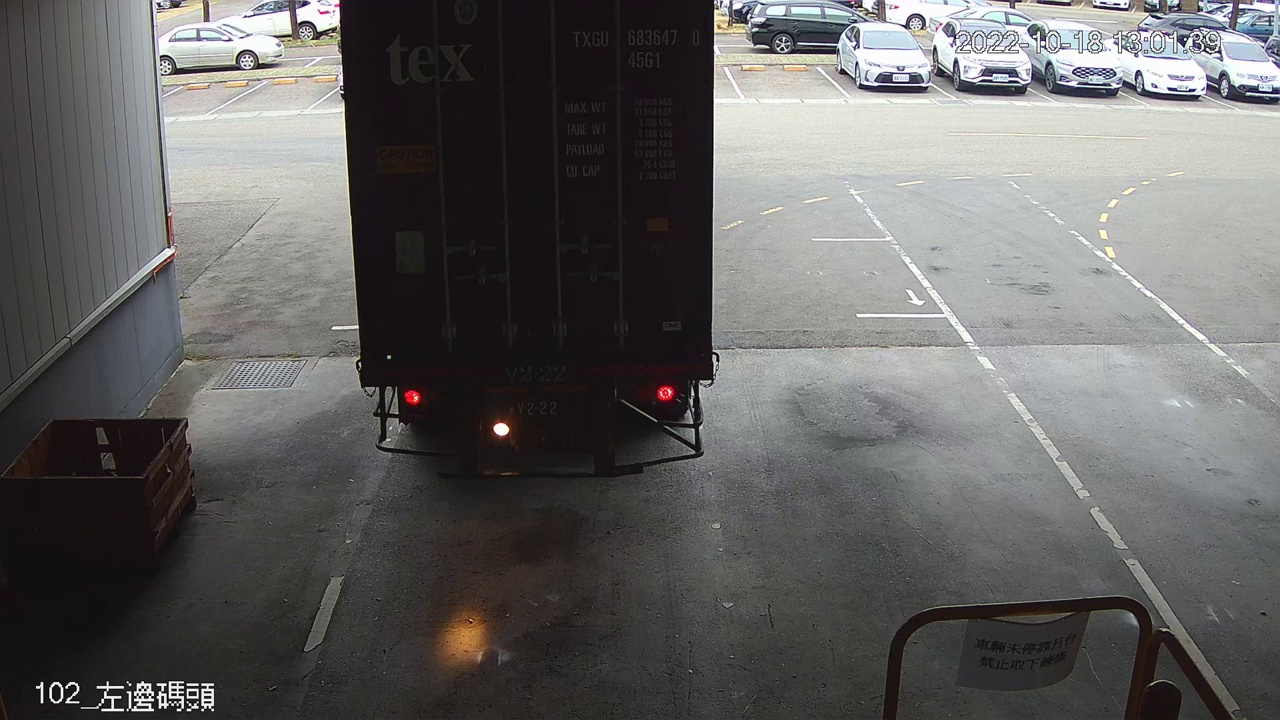container: (567, 21, 707, 73)
